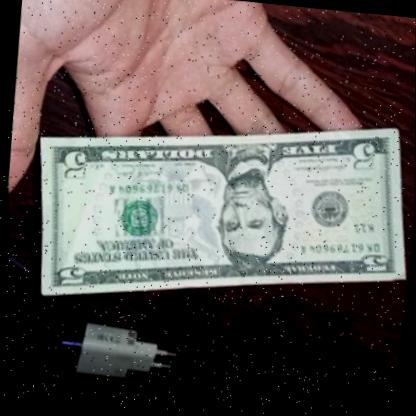dollar_front: (18, 95, 415, 332)
